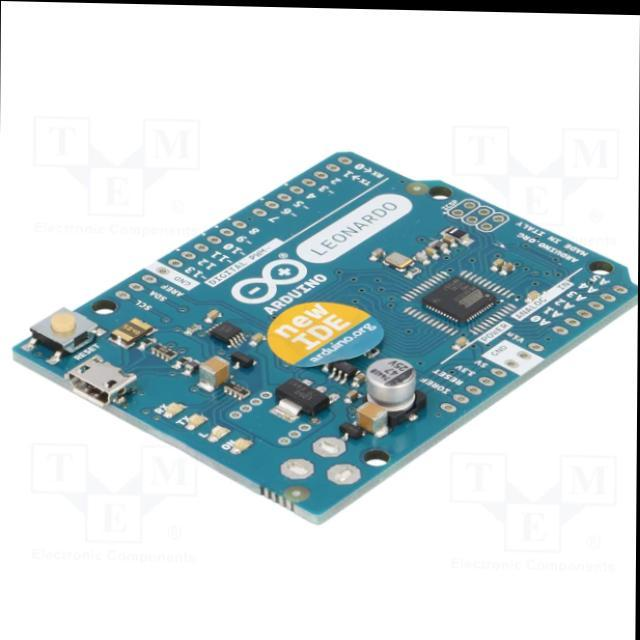Arduino-leonardo: (15, 154, 637, 522)
